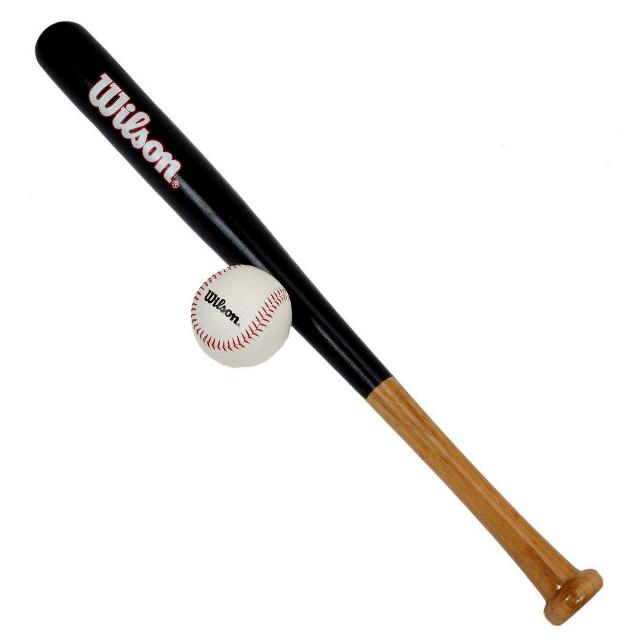baseball bat: (36, 0, 620, 620)
